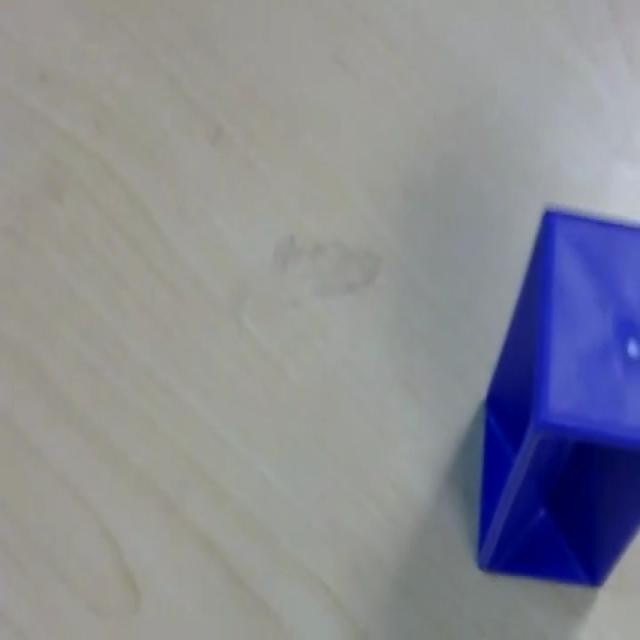blue_block: (475, 204, 638, 588)
